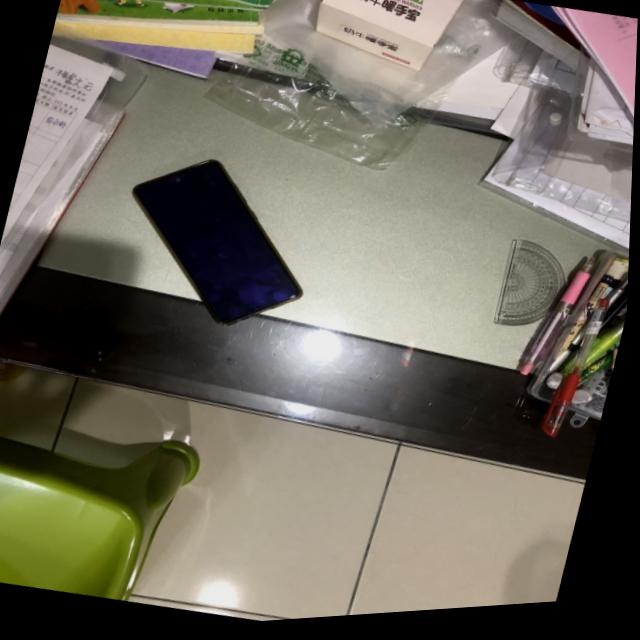Smartphone: (133, 162, 305, 328)
